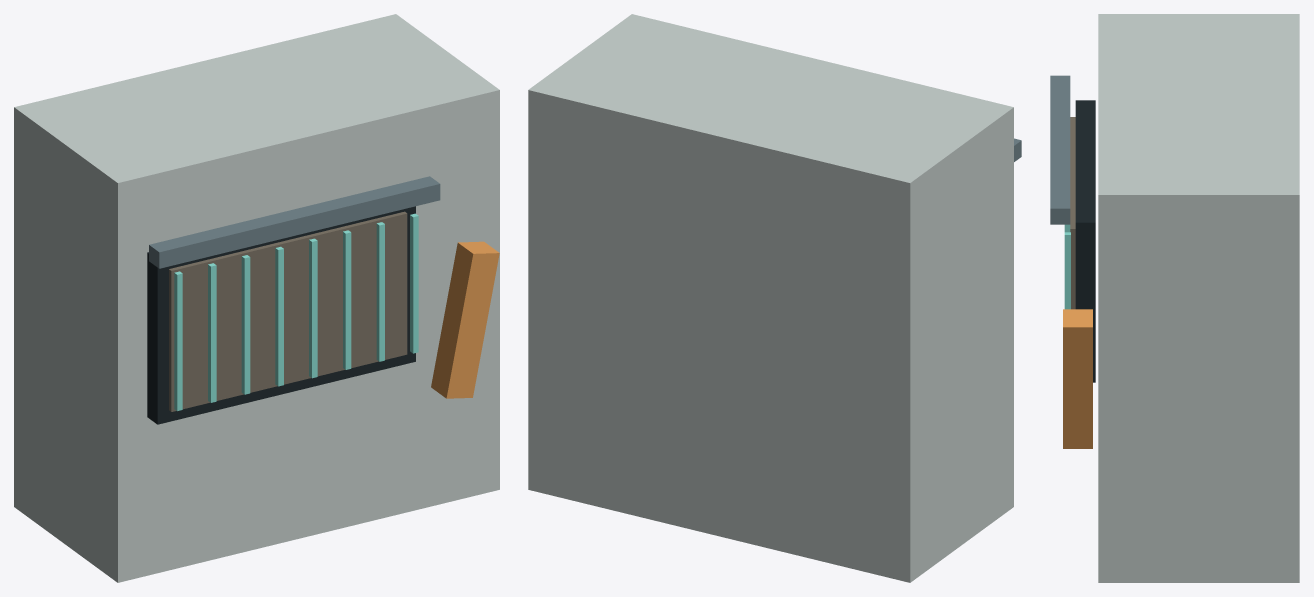
Rendered from dust-control-rack.glb.
The picture shows the model from 3 angles, left to right: view 1: azimuth 30°, elevation 25°; view 2: azimuth 150°, elevation 25°; view 3: azimuth 270°, elevation 25°; orthographic projection. The views are drawn at different scales.
Visible parts, largest first — view 1: cabinet, dust_surface, electrode (×8), cover_frame, test_panel, cleaning_tool; view 2: cabinet; view 3: cabinet, test_panel, cleaning_tool, cover_frame, dust_surface, electrode.
Boxes of the visible parts, box(x1,y1,x2,y2) form: cabinet: box(14, 14, 499, 582); dust_surface: box(169, 211, 407, 411); electrode (×8): box(174, 213, 418, 411); cover_frame: box(149, 176, 440, 268); test_panel: box(147, 206, 415, 424); cleaning_tool: box(431, 241, 499, 398); cabinet: box(528, 14, 1013, 582); cabinet: box(1098, 14, 1299, 582); test_panel: box(1075, 100, 1095, 382); cleaning_tool: box(1063, 309, 1092, 448); cover_frame: box(1050, 75, 1070, 224); dust_surface: box(1070, 117, 1075, 309); electrode: box(1064, 232, 1070, 309).
Bounding box in the file's own units: 1.7 × 1.7 × 0.99.
